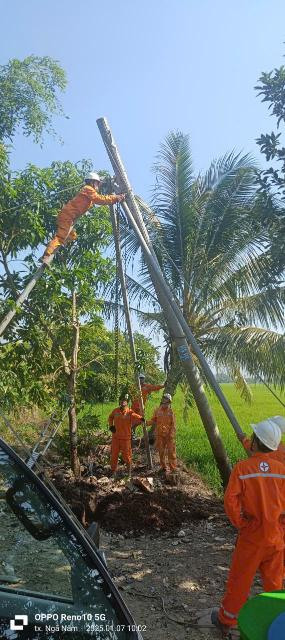gloves: (111, 192, 129, 204), (108, 426, 118, 433), (141, 418, 149, 425)
helmet: (247, 416, 284, 452), (269, 413, 285, 435), (82, 169, 103, 185), (162, 388, 177, 402), (136, 373, 147, 380)
shoes: (37, 253, 53, 274)
